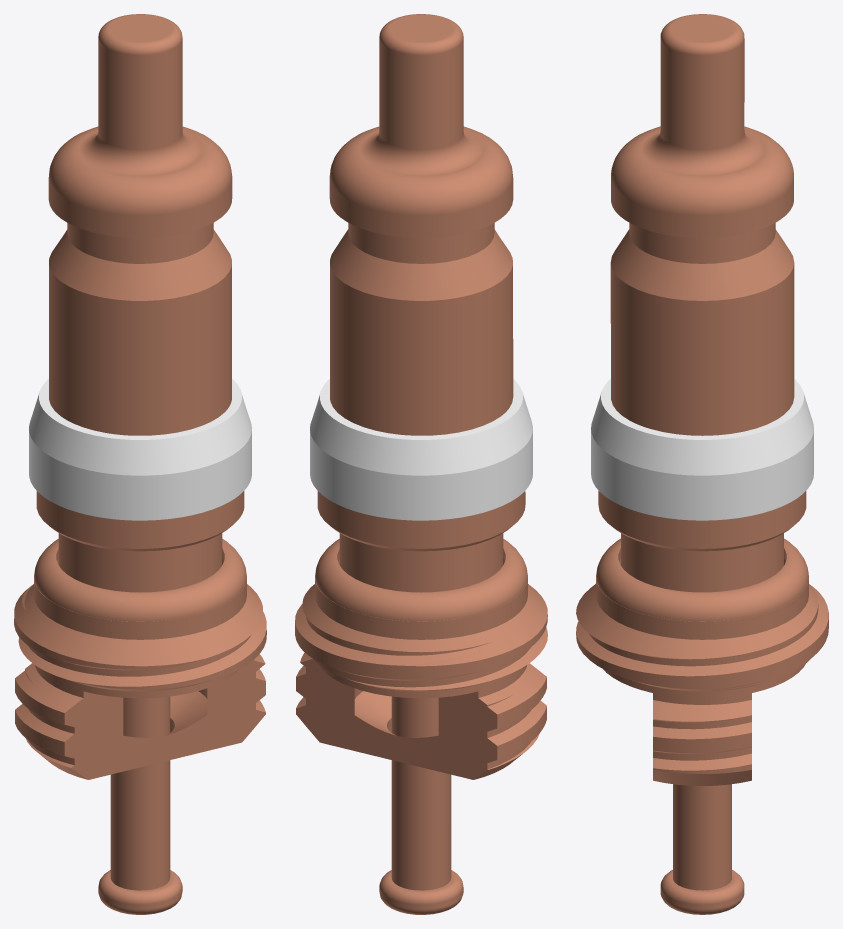
The model's file is asset.gltf.
3 renders of one model, left to right at view 1: azimuth 30°, elevation 25°; view 2: azimuth 150°, elevation 25°; view 3: azimuth 270°, elevation 25°, orthographic.
Parts seen in each view (by area): view 1: BARREL, SWIVEL, PLUNGER CAP, BARREL GASKET, PIN; view 2: BARREL, SWIVEL, PLUNGER CAP, BARREL GASKET, PIN; view 3: BARREL, SWIVEL, PLUNGER CAP, BARREL GASKET, PIN.
Boxes of the visible parts, x1,y1,x2,y2 form: BARREL: [36, 223, 244, 592]; SWIVEL: [14, 539, 266, 779]; PLUNGER CAP: [48, 14, 232, 237]; BARREL GASKET: [29, 379, 251, 520]; PIN: [98, 696, 182, 914]; BARREL: [317, 223, 525, 592]; SWIVEL: [295, 539, 547, 779]; PLUNGER CAP: [329, 14, 513, 237]; BARREL GASKET: [310, 379, 532, 520]; PIN: [379, 696, 463, 914]; BARREL: [598, 223, 806, 592]; SWIVEL: [576, 538, 828, 785]; PLUNGER CAP: [611, 14, 793, 237]; BARREL GASKET: [591, 379, 813, 520]; PIN: [660, 784, 744, 914].
Size of the model in its own units: 0.0051 by 0.0194 by 0.0051.
